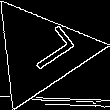L_SW: (9, 24, 73, 79)
